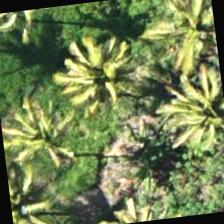Kelapa_Sawit: (44, 29, 144, 129), (0, 89, 90, 189), (155, 69, 223, 167), (143, 0, 221, 81)
